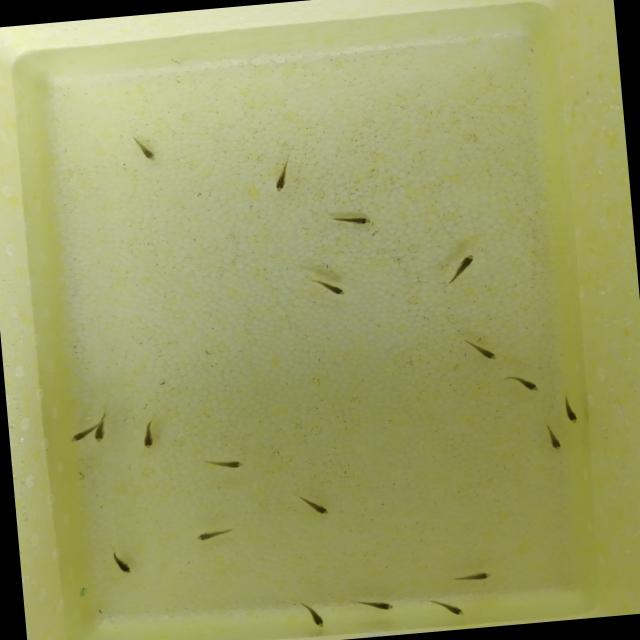fingerling: (439, 250, 480, 287), (292, 491, 334, 520), (310, 277, 348, 304), (266, 160, 296, 193), (132, 420, 162, 452), (353, 595, 399, 615), (180, 527, 237, 543), (424, 596, 464, 618), (324, 210, 372, 228), (507, 372, 543, 396), (451, 566, 498, 584), (198, 456, 248, 472), (560, 396, 588, 424), (542, 424, 566, 456), (464, 341, 500, 362), (130, 134, 154, 163), (300, 599, 322, 629), (111, 552, 132, 582), (62, 426, 88, 444), (88, 428, 110, 444)
